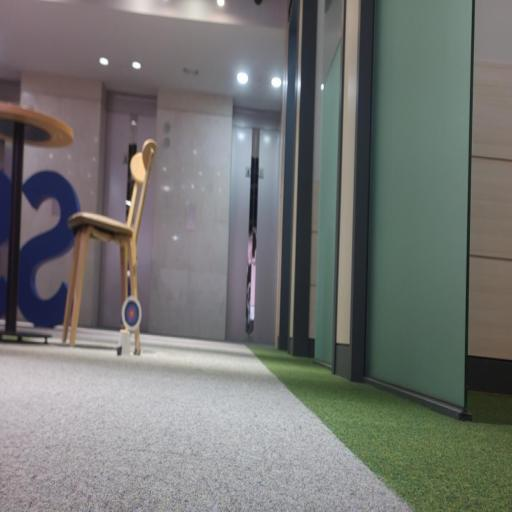target: (122, 296, 141, 331)
